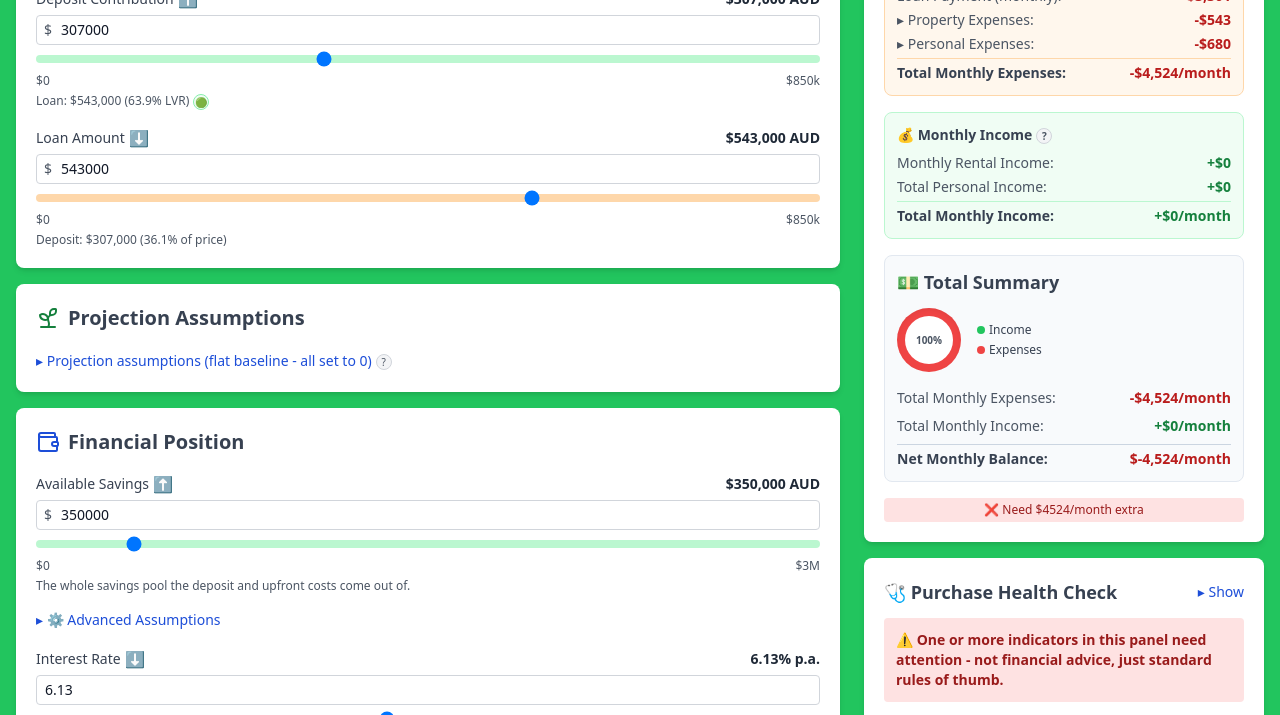
legacy Realistic Mode scenarios (TODO-141) › loads a scenario saved with Realistic Mode OFF as a flat baseline, ignoring its dormant rates
(page scrolled)
Click the button "▸ Projection assumptions (flat baseline - all set to 0)": (204, 361) [36, 351, 372, 371]
(page scrolled)
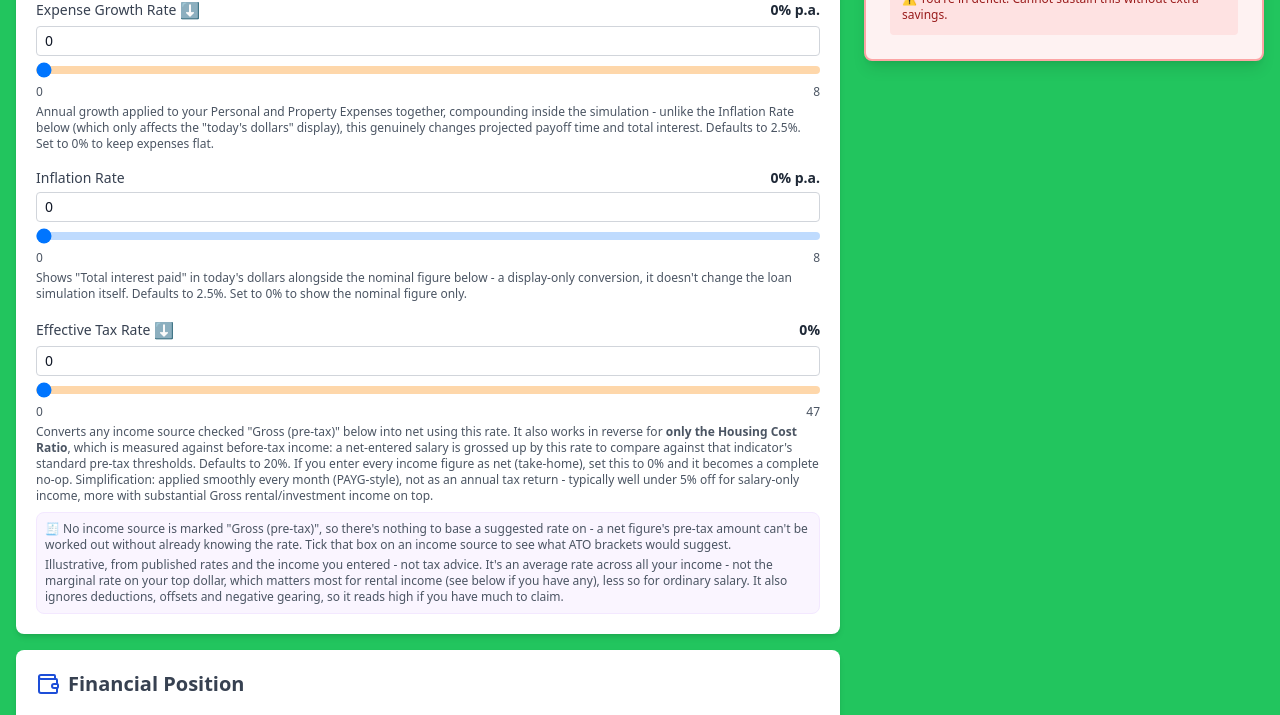
Now the number field labelled "Expense Growth Rate" holds "0", box [36, 26, 820, 56]
Now the number field labelled "Inflation Rate" holds "0", box [36, 192, 820, 222]
Now the number field labelled "Effective Tax Rate" holds "0", box [36, 346, 820, 376]
